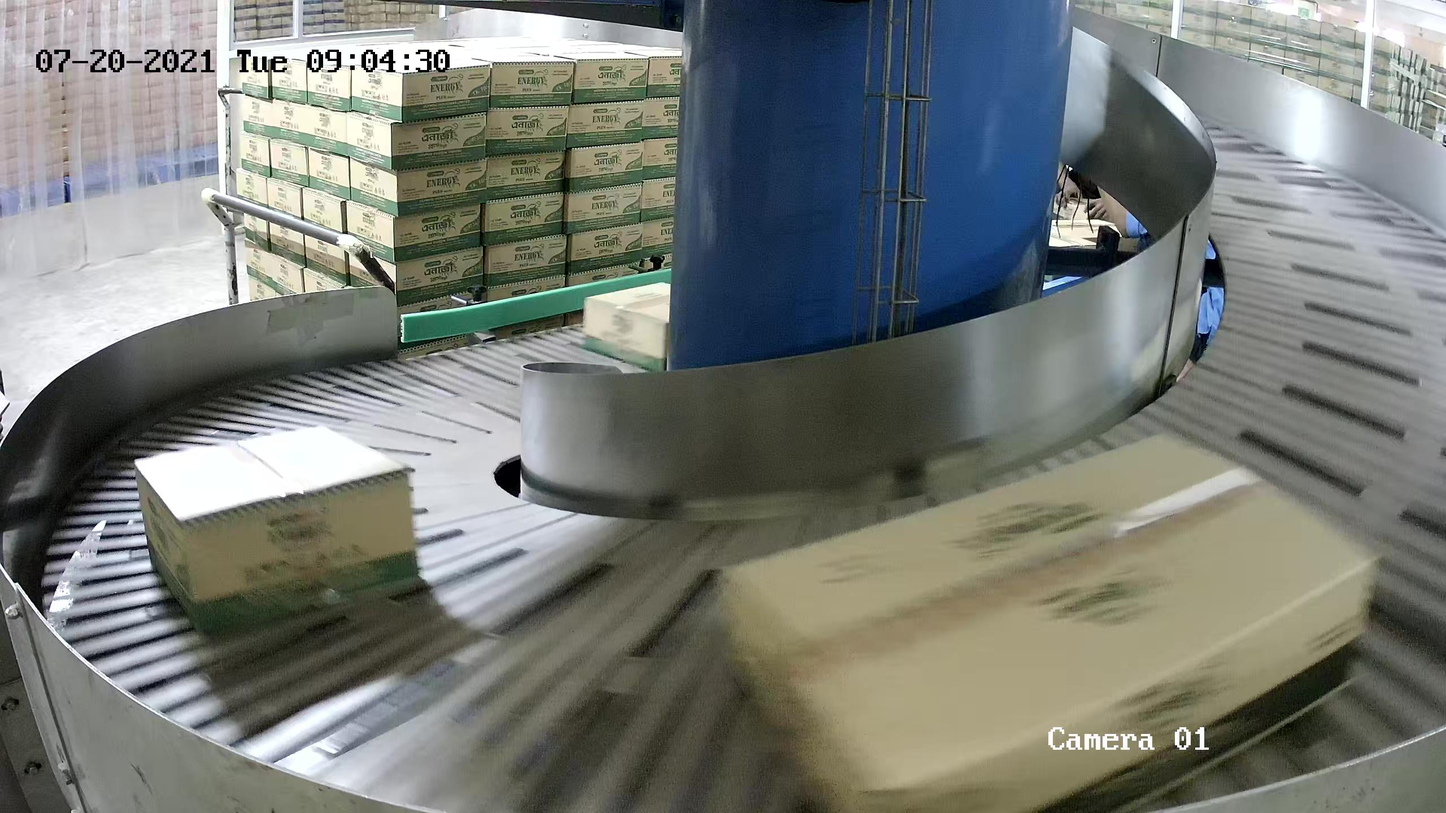Box: (714, 426, 1383, 813), (132, 425, 419, 634), (581, 281, 717, 376)
